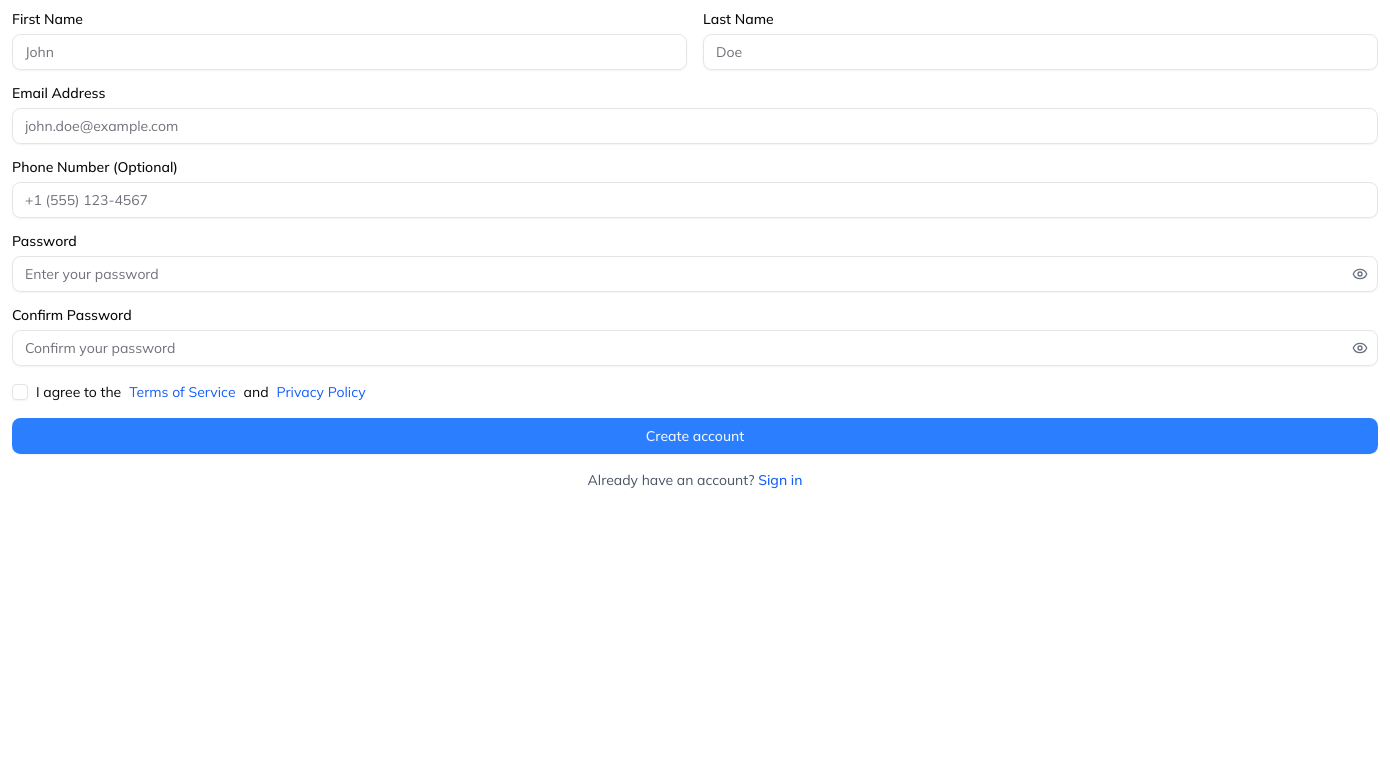
Test case: RegisterForm › should validate password requirements
Type "weak" into the password field labelled "Password" at point(695, 274), box [12,256,1378,292]
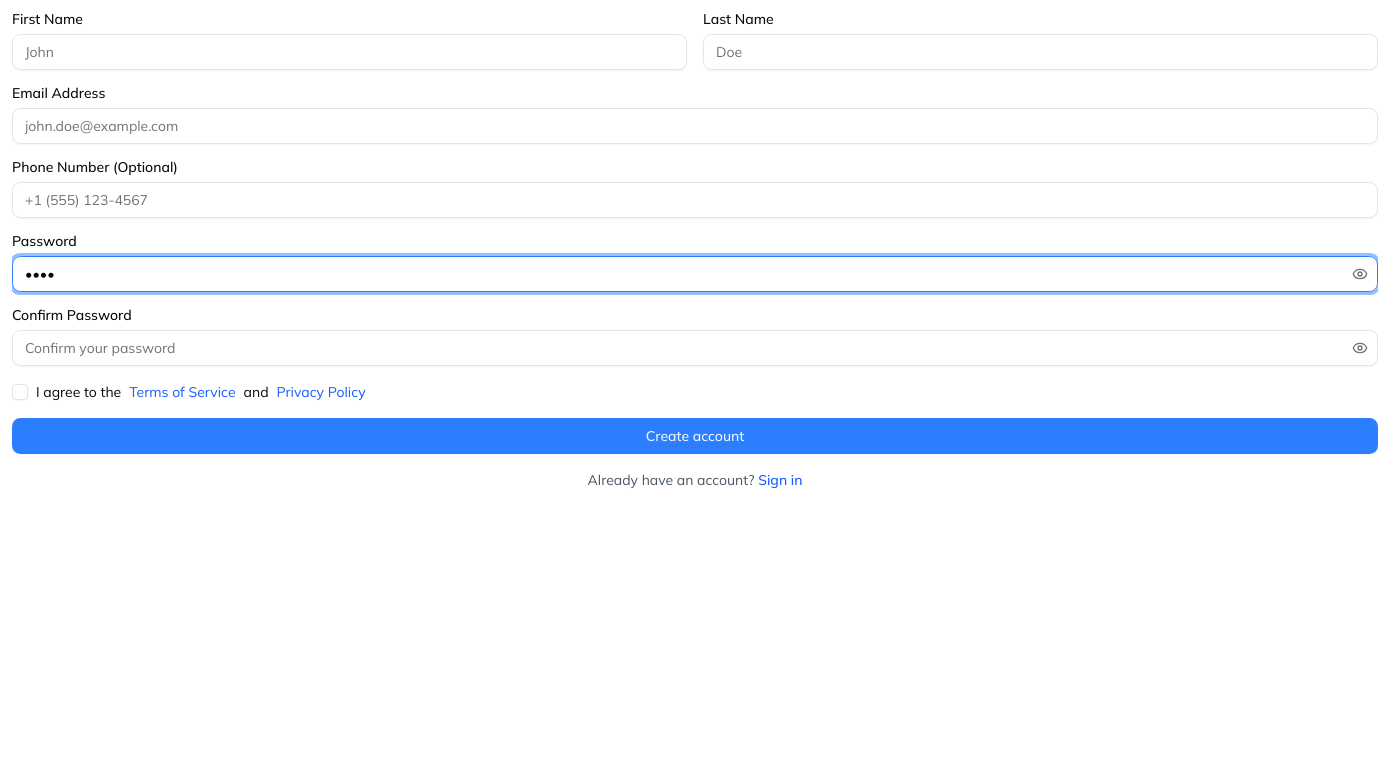
Click the button "Create account" at point(695, 436), box [12,418,1378,454]
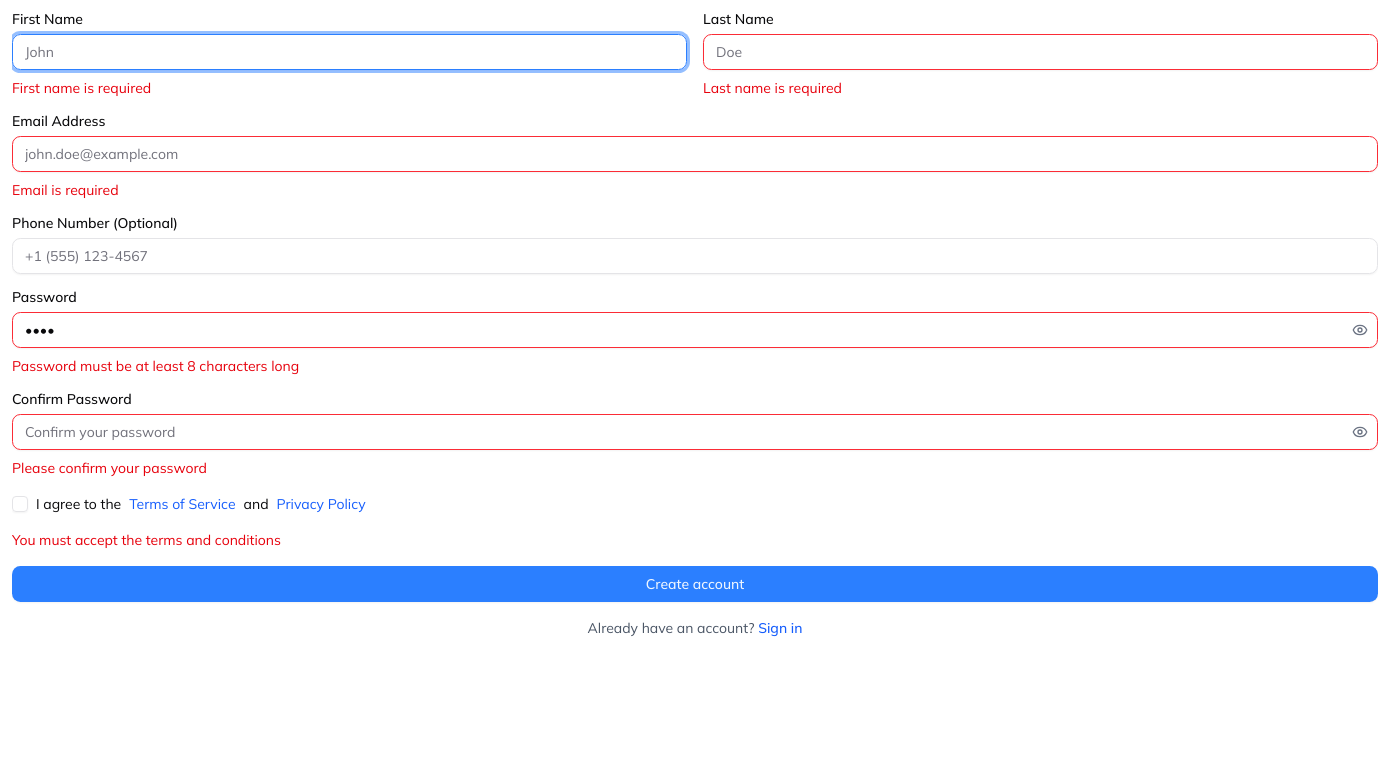
Expected: the text "Password must be at least 8 characters long" is shown, [12,357,299,375]
